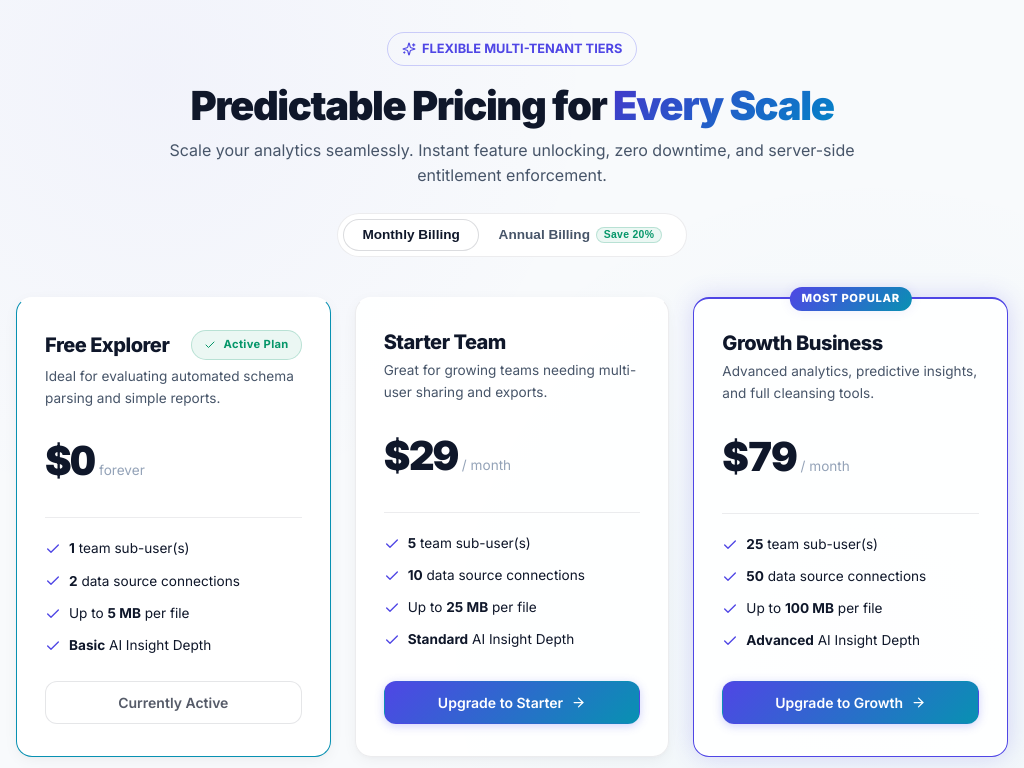
Test case: PackageSelectionPage Component › toggles between monthly and annual billing with 20% discount
Expected: the text "$29" is shown, left=384, top=424, right=457, bottom=488
Step 1. Click the button with test id "billing-annual-btn" → (580, 235), box left=479, top=219, right=681, bottom=251
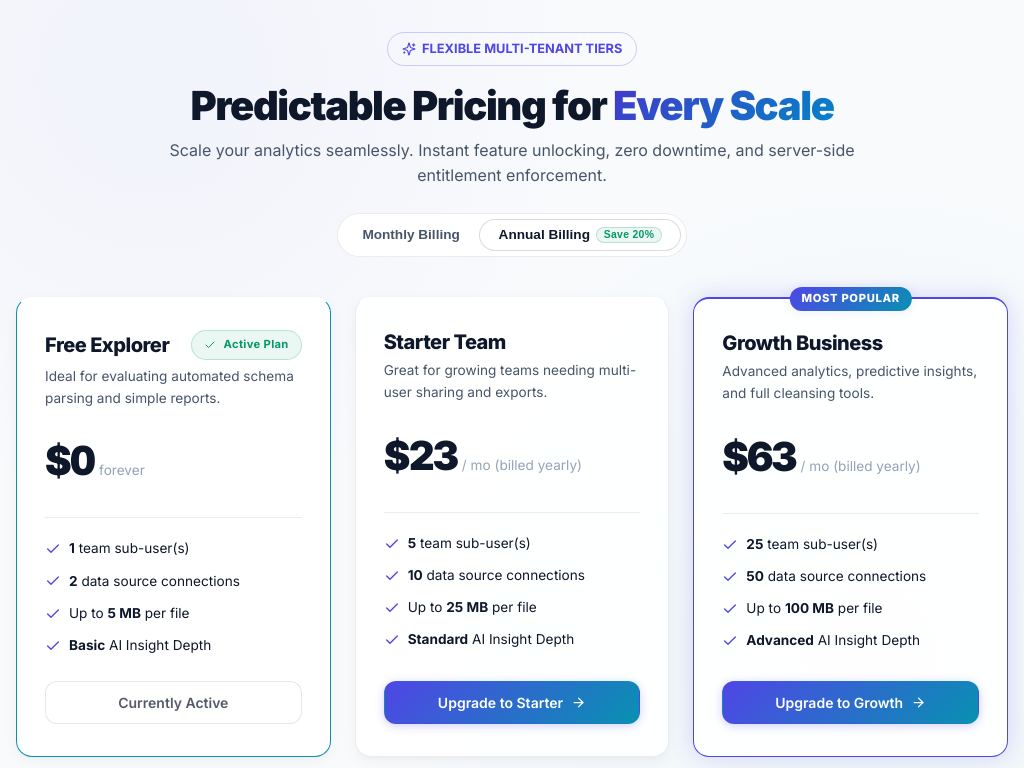
Expected: the text "$23" is shown, left=384, top=424, right=457, bottom=488
